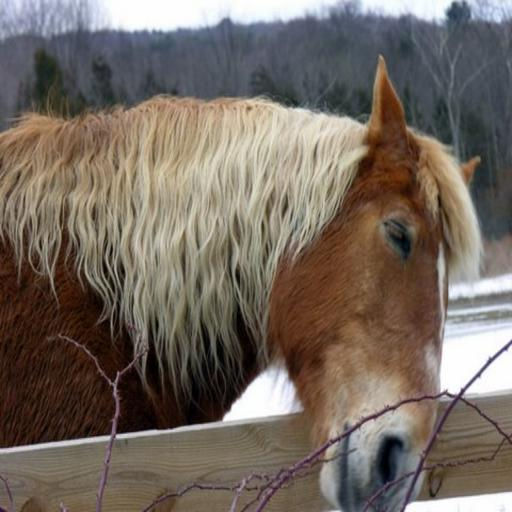horse: (0, 56, 489, 510)
